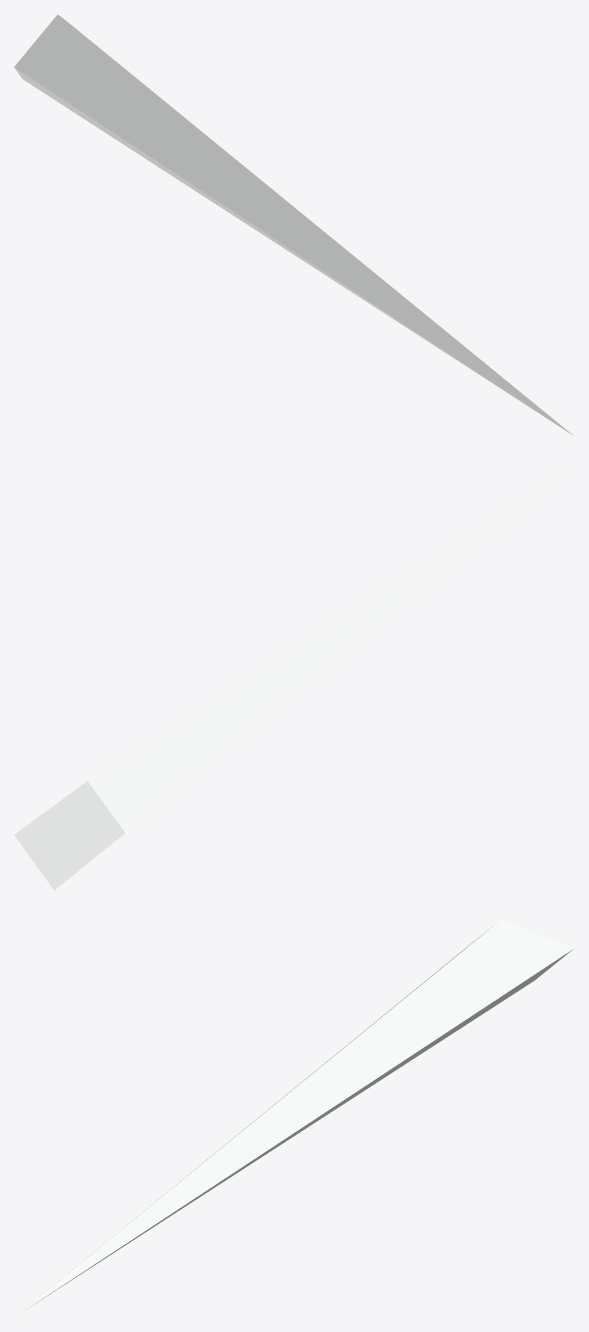
Rendered from Fragment014.fbx.
3 views of the same model, one above another, from view 1: azimuth 30°, elevation 25°; view 2: azimuth 150°, elevation 25°; view 3: azimuth 330°, elevation 25° (orthographic). The views are drawn at different scales.
Parts seen in each view (by area): view 1: SatelliteFrag.014; view 2: SatelliteFrag.014; view 3: SatelliteFrag.014.
Boxes of the visible parts, x1=… form: SatelliteFrag.014: x1=14, y1=14, x2=573, y2=435; SatelliteFrag.014: x1=14, y1=466, x2=573, y2=890; SatelliteFrag.014: x1=15, y1=919, x2=574, y2=1316.
Bounding box in the file's own units: 9.3 × 9.3 × 103.
